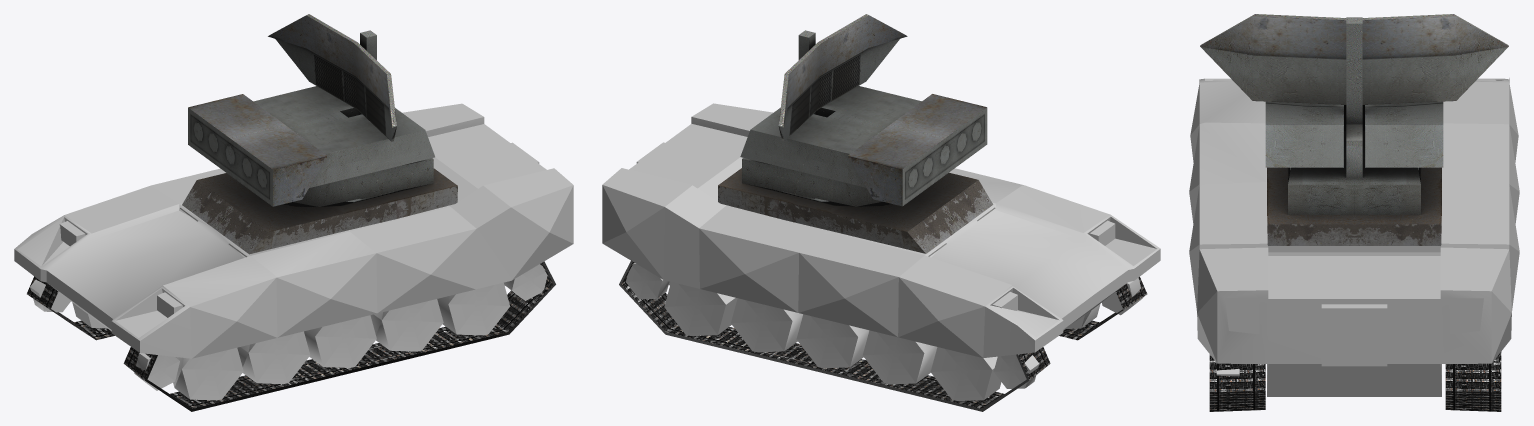
File: Tank2_lod2.FBX
3 views of the same model, side by side, from view 1: azimuth 30°, elevation 25°; view 2: azimuth 150°, elevation 25°; view 3: azimuth 270°, elevation 25° (orthographic). The views are drawn at different scales.
Visible parts, largest first — view 1: Mesh Object_ncl1_4, Mesh Object_ncl1_3, Mesh Object_ncl1_9, Mesh Object_ncl1_2, Mesh Object_ncl1_6, Mesh Object_ncl1_13, Mesh Object_ncl1_14, Mesh Object_ncl1_5, Mesh Object_ncl1_12, Mesh Object_ncl1_8, Mesh Object_ncl1_7; view 2: Mesh Object_ncl1_4, Mesh Object_ncl1_3, Mesh Object_ncl1_9, Mesh Object, Mesh Object_ncl1_10, Mesh Object_ncl1_16, Mesh Object_ncl1_15, Mesh Object_ncl1_1, Mesh Object_ncl1_7, Mesh Object_ncl1_11, Mesh Object_ncl1_12; view 3: Mesh Object_ncl1_4, Mesh Object_ncl1_3, Mesh Object_ncl1_9.
Part boxes in pixels (<box>): Mesh Object_ncl1_4: <box>14,103,573,358</box>; Mesh Object_ncl1_3: <box>180,14,457,257</box>; Mesh Object_ncl1_9: <box>27,261,555,411</box>; Mesh Object_ncl1_2: <box>370,299,443,351</box>; Mesh Object_ncl1_6: <box>437,282,510,335</box>; Mesh Object_ncl1_13: <box>237,331,310,384</box>; Mesh Object_ncl1_14: <box>304,315,376,367</box>; Mesh Object_ncl1_5: <box>173,348,243,400</box>; Mesh Object_ncl1_12: <box>134,353,179,390</box>; Mesh Object_ncl1_8: <box>504,264,547,300</box>; Mesh Object_ncl1_7: <box>30,279,70,312</box>; Mesh Object_ncl1_4: <box>602,103,1160,357</box>; Mesh Object_ncl1_3: <box>718,14,995,256</box>; Mesh Object_ncl1_9: <box>619,260,1147,411</box>; Mesh Object: <box>862,330,937,384</box>; Mesh Object_ncl1_10: <box>664,282,737,335</box>; Mesh Object_ncl1_16: <box>796,314,869,368</box>; Mesh Object_ncl1_15: <box>731,298,802,352</box>; Mesh Object_ncl1_1: <box>930,347,1001,400</box>; Mesh Object_ncl1_7: <box>993,354,1039,388</box>; Mesh Object_ncl1_11: <box>626,263,669,299</box>; Mesh Object_ncl1_12: <box>1102,278,1143,315</box>; Mesh Object_ncl1_4: <box>1189,78,1519,396</box>; Mesh Object_ncl1_3: <box>1200,14,1508,245</box>; Mesh Object_ncl1_9: <box>1209,351,1501,411</box>.
Size of the model in its own units: 7.05 by 4.16 by 3.65.
